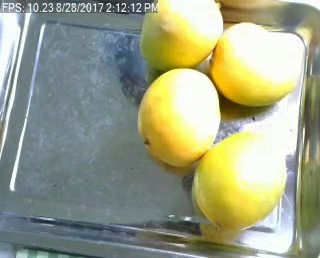Mango: (195, 130, 287, 227), (138, 66, 221, 163), (214, 19, 301, 104), (139, 0, 222, 70)
